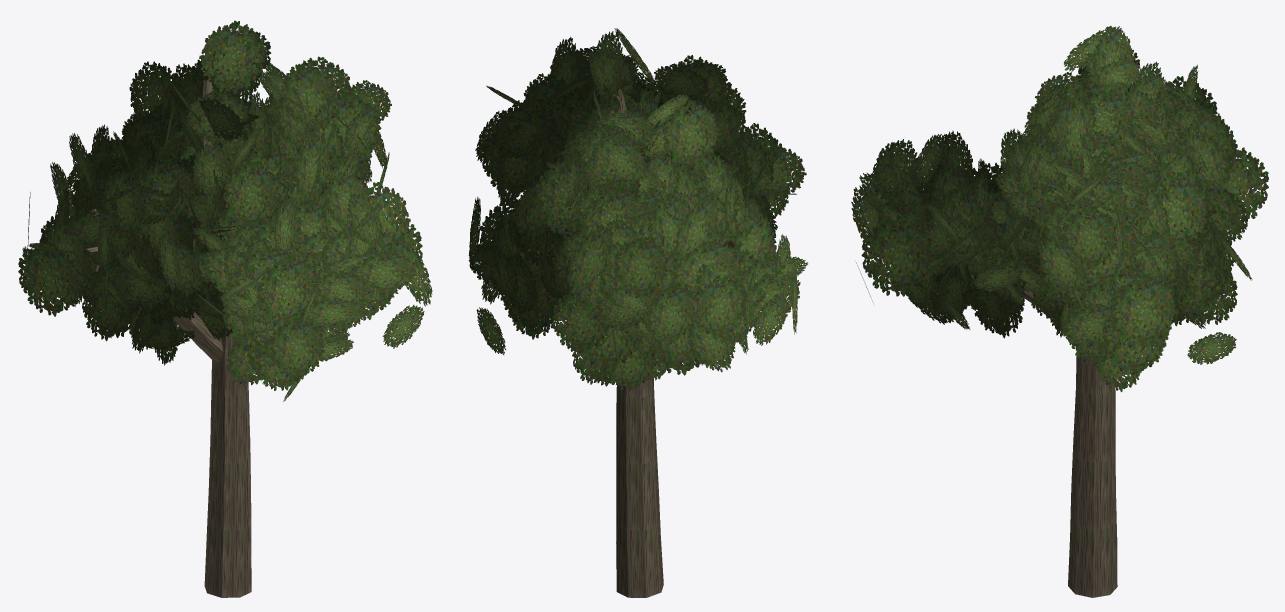
Rendered from Tree_Oak_3.gltf.
3 renders of one model, left to right at view 1: azimuth 30°, elevation 25°; view 2: azimuth 150°, elevation 25°; view 3: azimuth 270°, elevation 25°, orthographic.
Parts seen in each view (by area): view 1: Tree_Oak_3; view 2: Tree_Oak_3; view 3: Tree_Oak_3.
Boxes of the visible parts, x1,y1,x2,y2 form: Tree_Oak_3: (18, 20, 432, 597); Tree_Oak_3: (468, 28, 807, 597); Tree_Oak_3: (851, 26, 1268, 597).
Bounding box in the file's own units: 16 × 24.35 × 16.59.
Materials: 2 (2 with a texture image).
